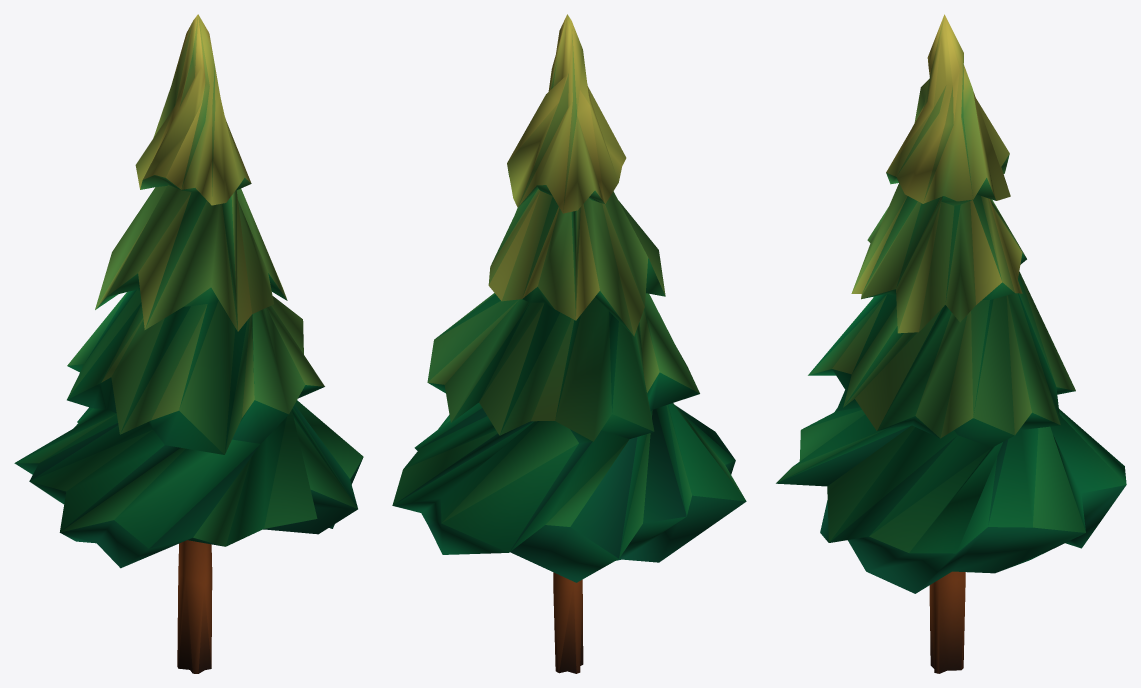
Rendered from Pine_Tree_2C.fbx.
The picture shows the model from 3 angles, left to right: view 1: azimuth 30°, elevation 25°; view 2: azimuth 150°, elevation 25°; view 3: azimuth 270°, elevation 25°; orthographic projection.
Parts seen in each view (by area): view 1: Pine_Tree_2C; view 2: Pine_Tree_2C; view 3: Pine_Tree_2C.
Boxes of the visible parts, x1,y1,x2,y2 form: Pine_Tree_2C: (14, 14, 363, 673); Pine_Tree_2C: (392, 14, 746, 673); Pine_Tree_2C: (776, 14, 1126, 673).
Size of the model in its own units: 375 by 763 by 371.
